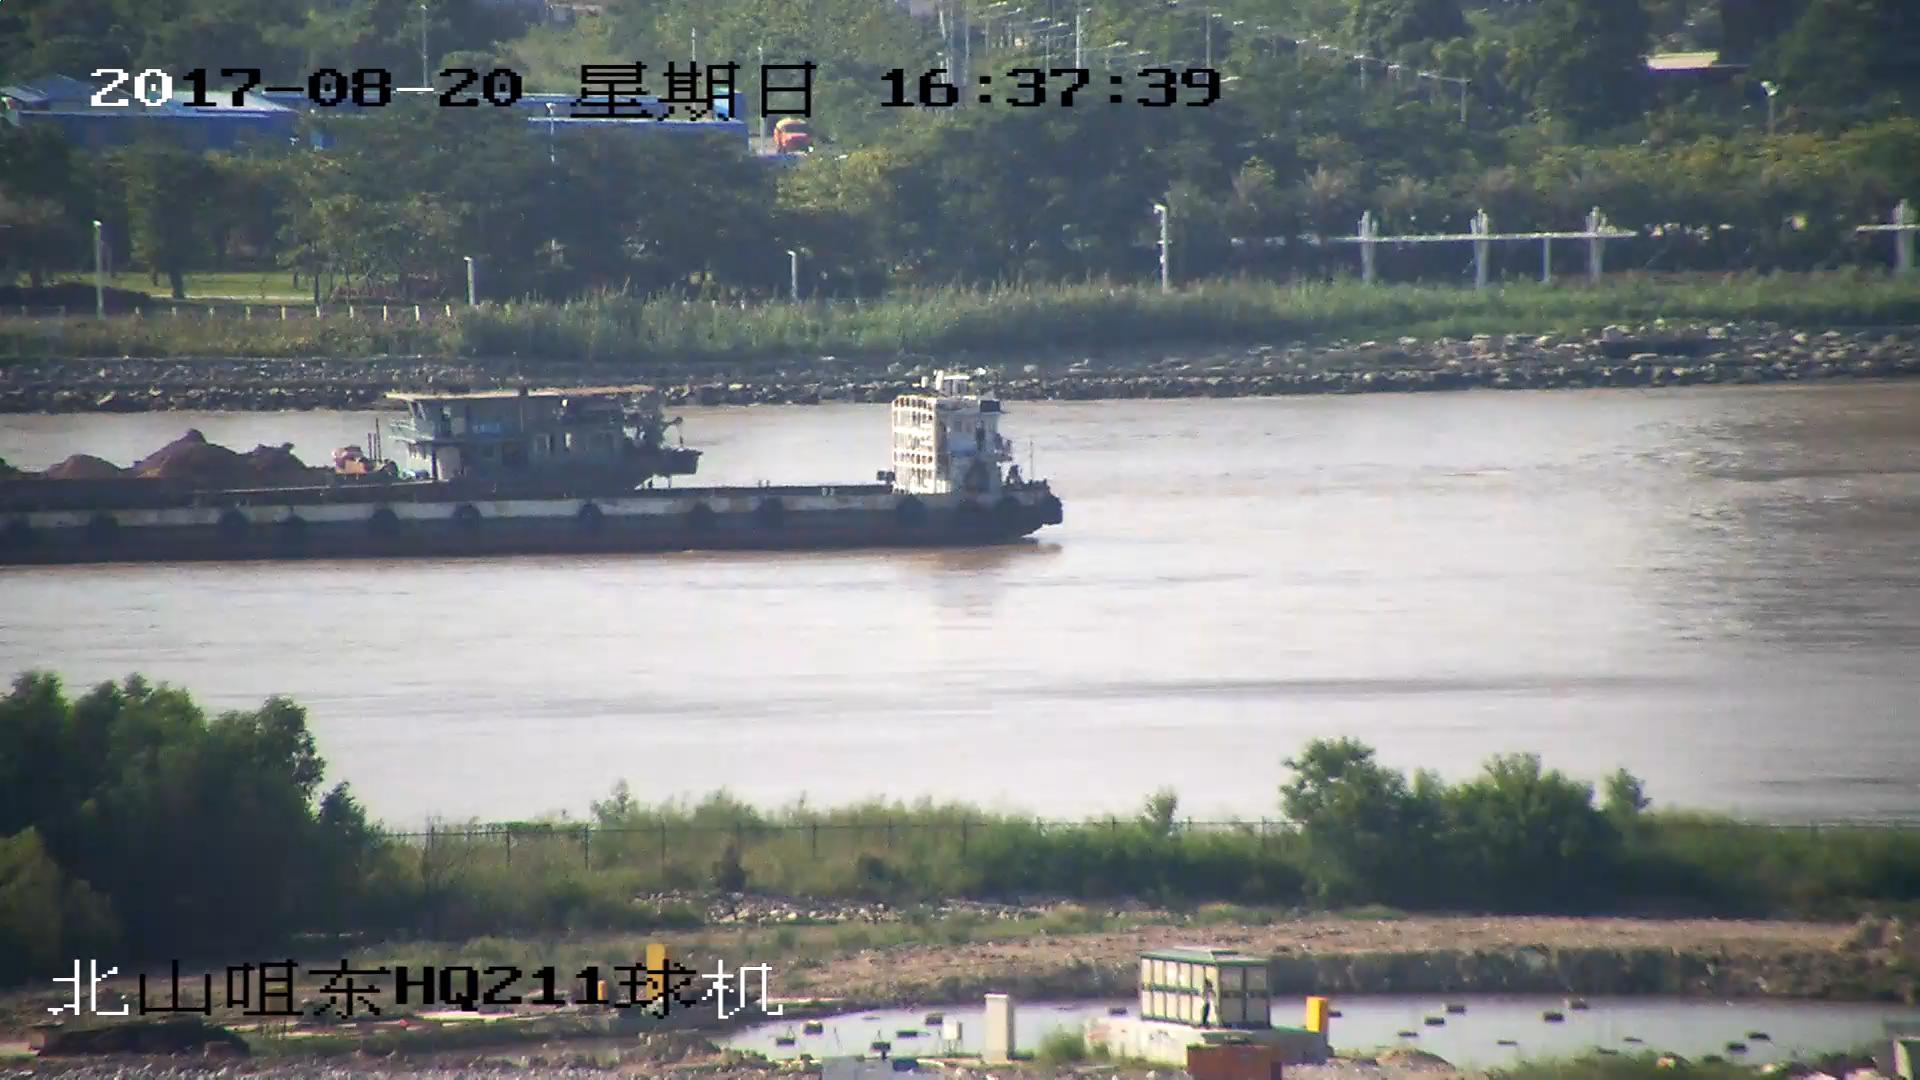Ship: (3, 375, 1069, 560), (3, 389, 692, 501)
